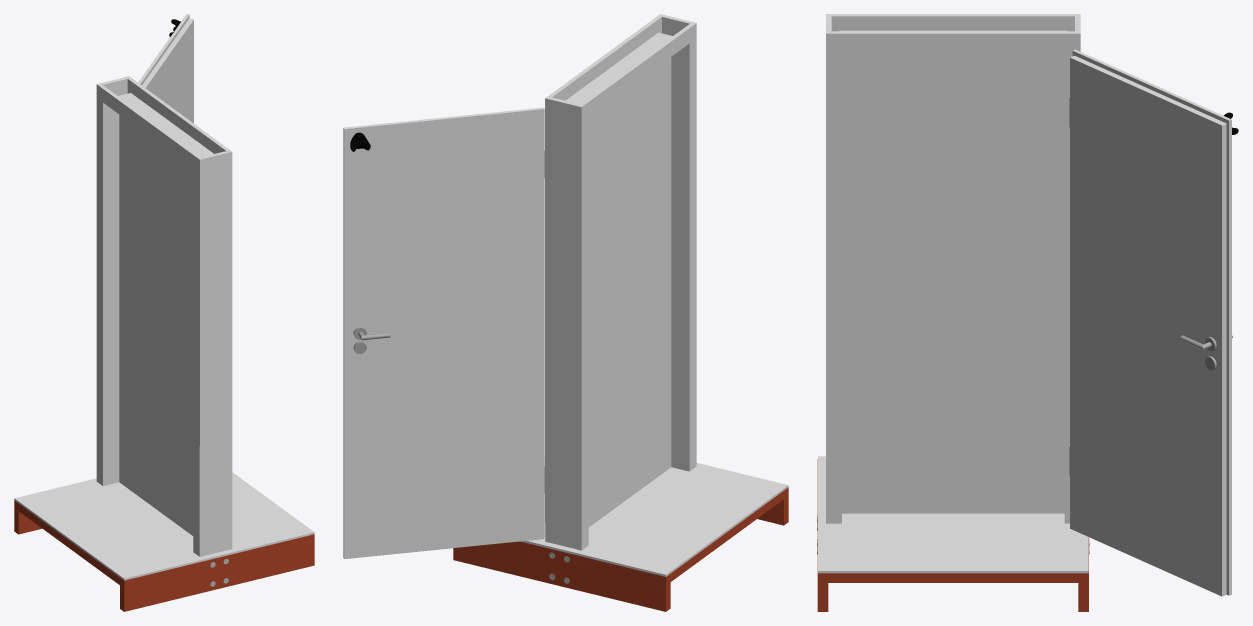
The model's file is Door.glb.
3 renders of one model, left to right at view 1: azimuth 30°, elevation 25°; view 2: azimuth 150°, elevation 25°; view 3: azimuth 270°, elevation 25°, orthographic. The views are drawn at different scales.
Parts seen in each view (by area): view 1: Zarge.005, Plane.004; view 2: Zarge.005, Plane.004; view 3: Zarge.005, Plane.004.
Boxes of the visible parts, left/top/right/bottom form: Zarge.005: left=14, top=14, right=314, bottom=611; Plane.004: left=119, top=115, right=193, bottom=535; Zarge.005: left=343, top=14, right=788, bottom=611; Plane.004: left=588, top=57, right=671, bottom=527; Zarge.005: left=817, top=14, right=1238, bottom=611; Plane.004: left=842, top=50, right=1064, bottom=513.
Bounding box in the file's own units: 1.26 × 2.21 × 1.59.
